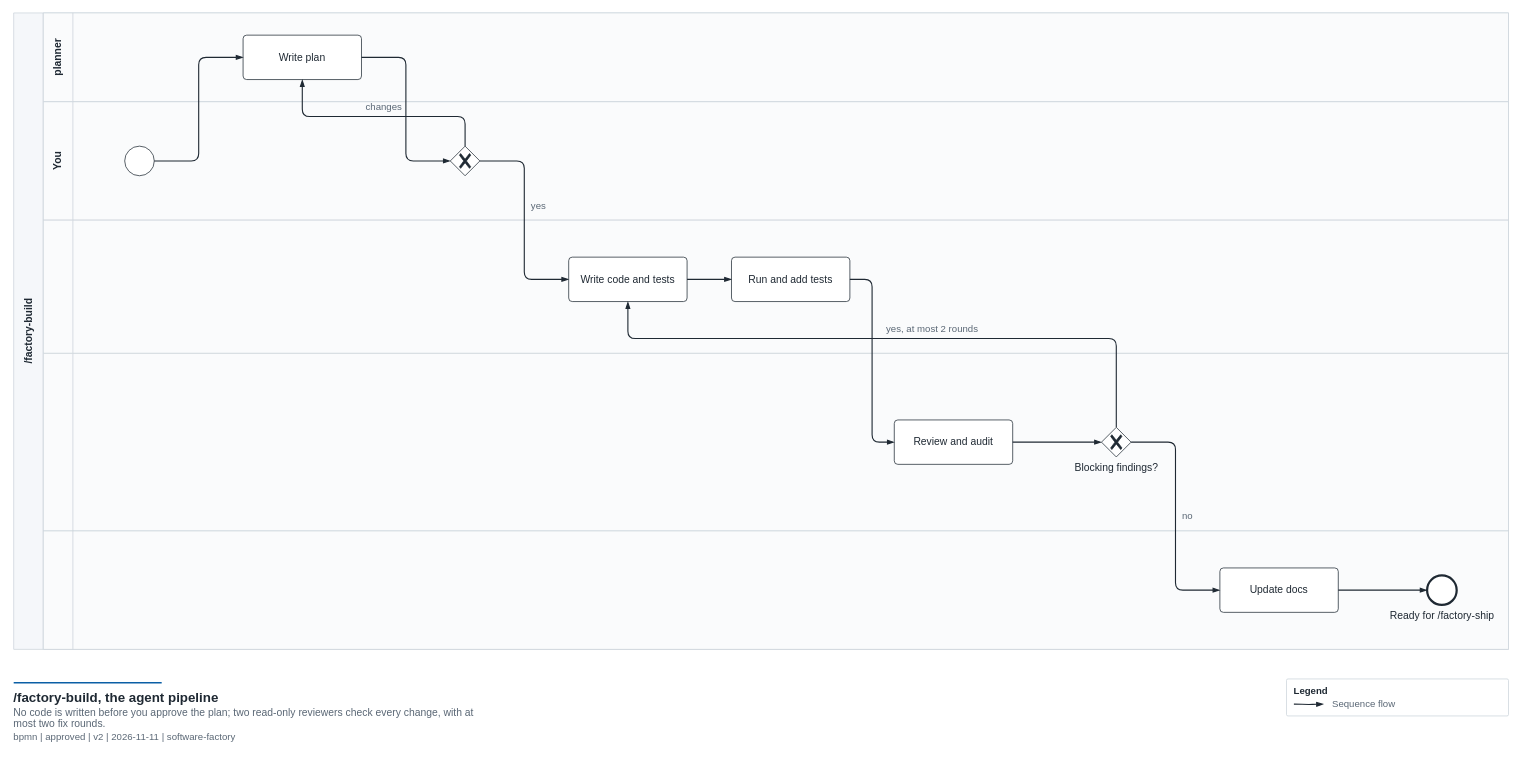
Some shapes in this 1521 by 759 pixel diagram are drawn without their labels. The shapes that lost their labels are listed below. From the top down, each one's box as (x1, y1, x2, y2) in pixels, then its label:
(124, 145, 154, 176): Feature requested
(450, 145, 480, 176): Plan approved?
(43, 219, 1508, 353): implementer, tester
(43, 353, 1508, 531): reviewer, security-auditor
(43, 530, 1508, 649): docs-writer
